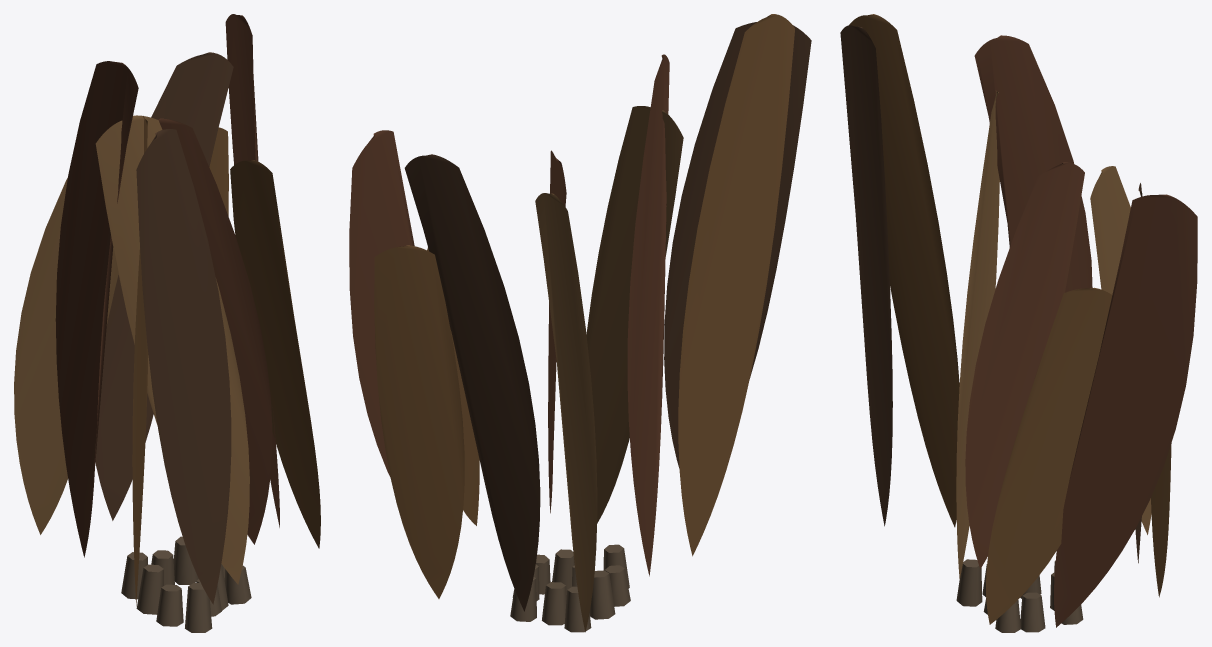
Rendered from plant-crypt-brown.glb.
The picture shows the model from 3 angles, left to right: view 1: azimuth 30°, elevation 25°; view 2: azimuth 150°, elevation 25°; view 3: azimuth 270°, elevation 25°; orthographic projection. The views are drawn at different scales.
Parts seen in each view (by area): view 1: plant-crypt-brown; view 2: plant-crypt-brown; view 3: plant-crypt-brown.
Boxes of the visible parts, <box> form: plant-crypt-brown: <box>14,14,320,632</box>; plant-crypt-brown: <box>349,14,811,632</box>; plant-crypt-brown: <box>840,14,1197,632</box>.
Bounding box in the file's own units: 0.3827 × 0.7377 × 0.4425.
